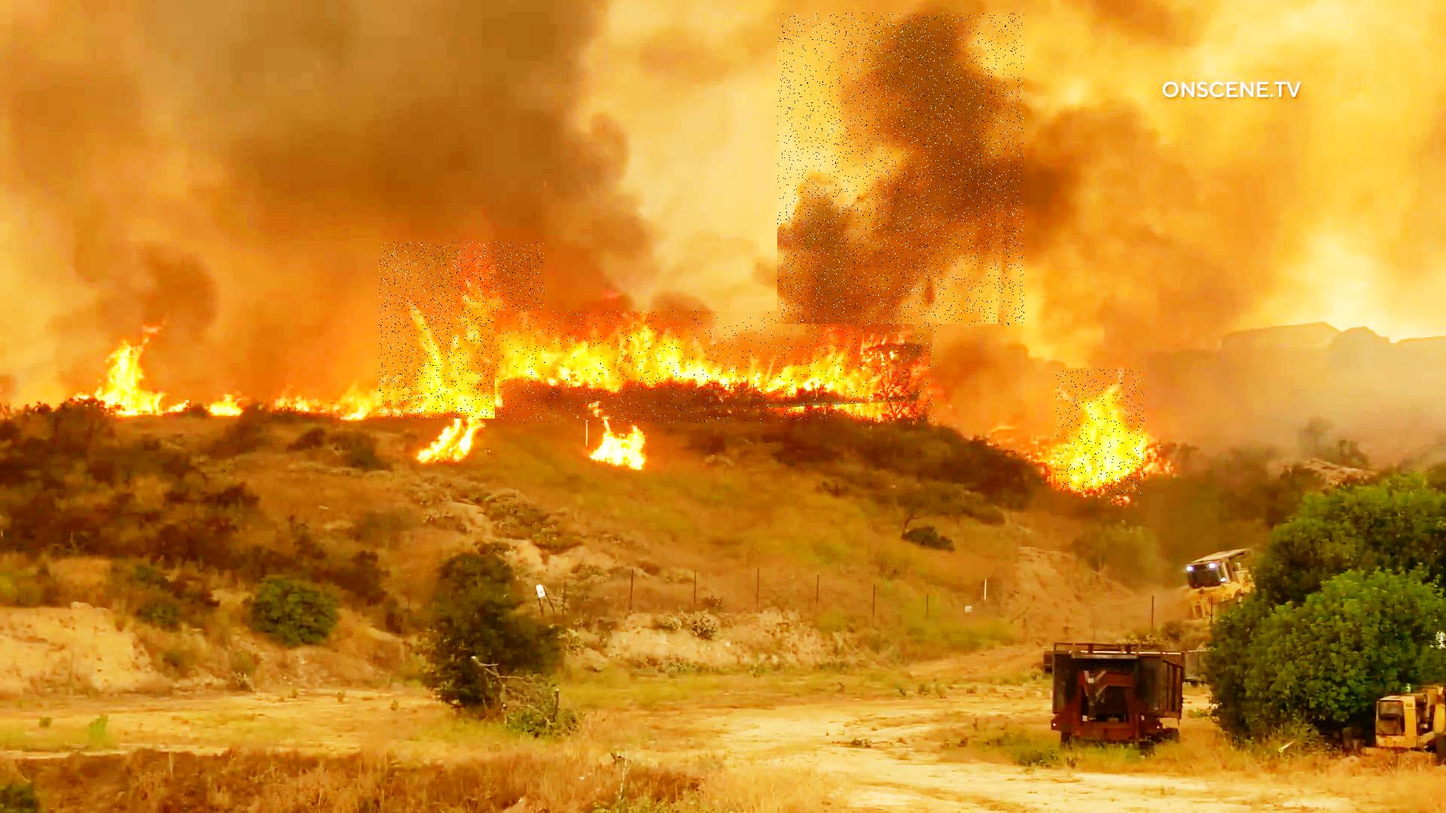fire: (495, 311, 937, 423), (379, 242, 545, 419), (1057, 369, 1145, 496)
smoke: (778, 13, 1025, 326)
